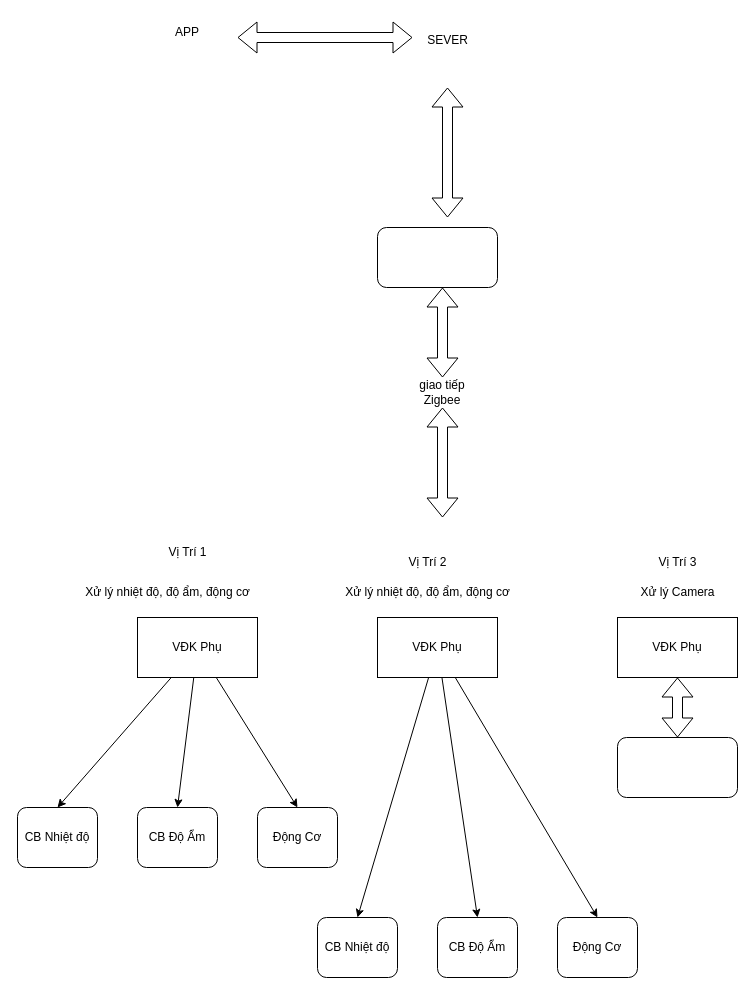
Some shapes in this 755 by 995 pixel diagram are drawn without their labels. The centre of each missing label's shape, as x and y in pixels:
Camera: (677,767)
VĐK chính: (437,257)
